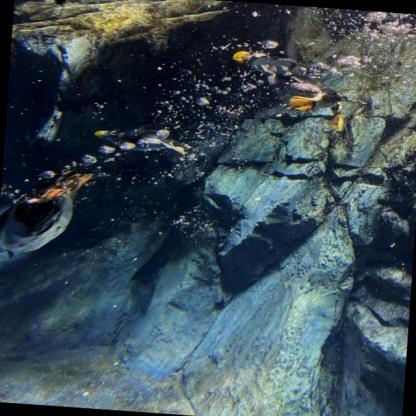puffin: (222, 42, 370, 134), (0, 161, 97, 263), (88, 123, 193, 157)
